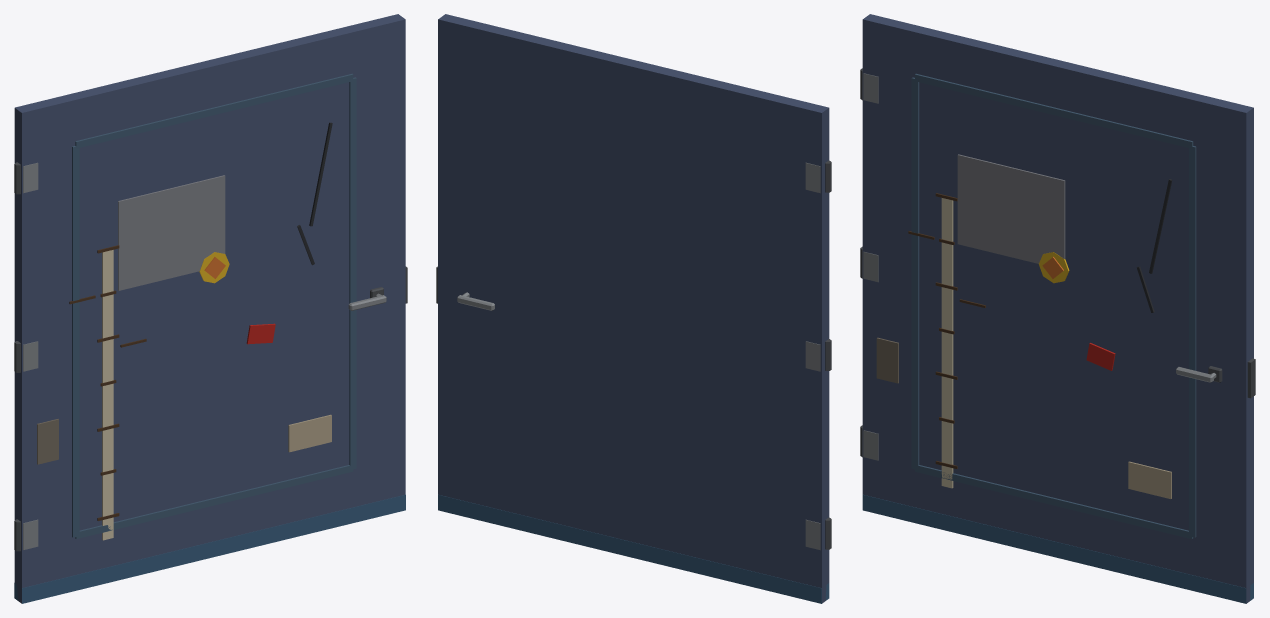
File: bld_door_bedroom.fbx
3 renders of one model, left to right at view 1: azimuth 30°, elevation 25°; view 2: azimuth 150°, elevation 25°; view 3: azimuth 330°, elevation 25°, orthographic.
Visible parts, largest first — view 1: bld_door_bedroom; view 2: bld_door_bedroom; view 3: bld_door_bedroom.
Part boxes in pixels (x1,y1,x2,y2): bld_door_bedroom: (14, 14, 407, 603); bld_door_bedroom: (436, 14, 831, 603); bld_door_bedroom: (860, 14, 1255, 603).
Size of the model in its own units: 1.83 by 2.2 by 0.195.
